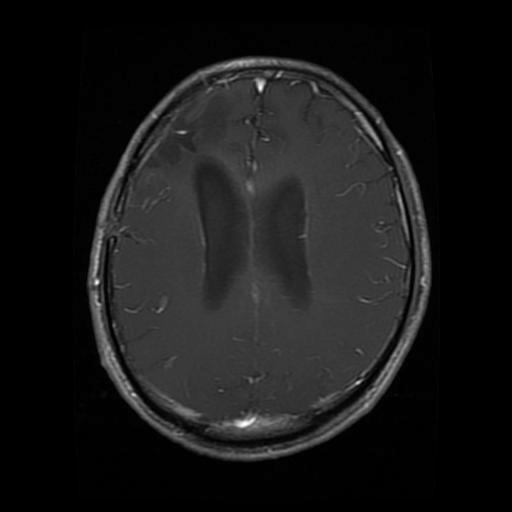Tumour-Glioma: (147, 113, 223, 169)
